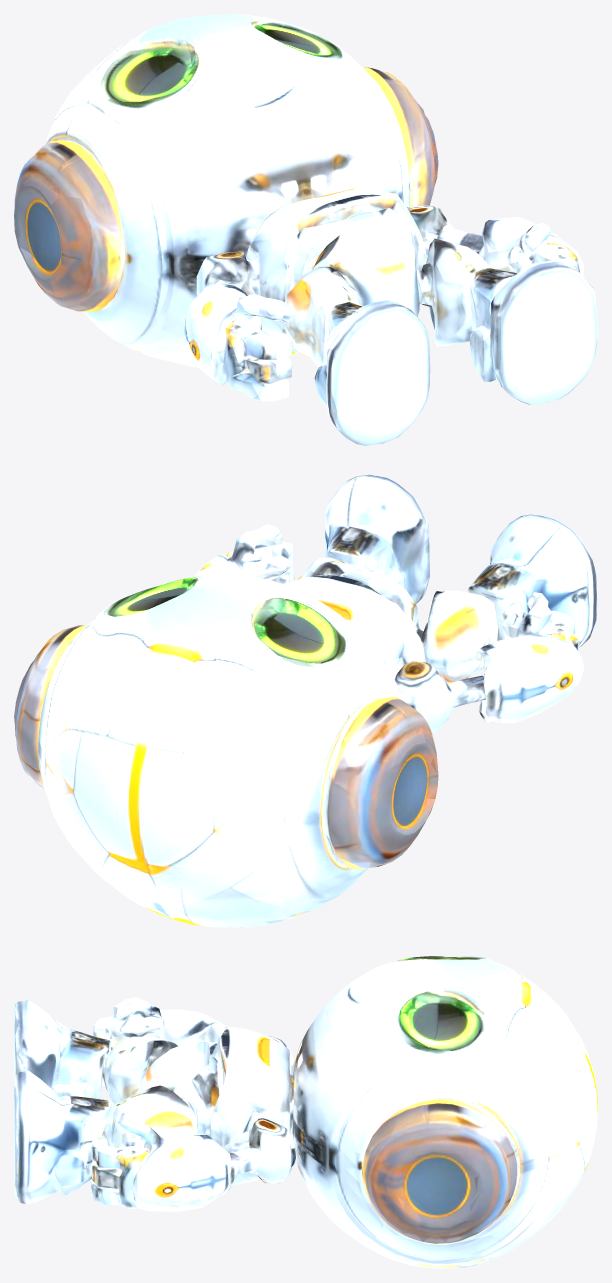
The model's file is core-kitchen-bot.glb.
3 renders of one model, top to bottom at view 1: azimuth 30°, elevation 25°; view 2: azimuth 150°, elevation 25°; view 3: azimuth 270°, elevation 25°, orthographic. The views are drawn at different scales.
Parts seen in each view (by area): view 1: _rootJoint; view 2: _rootJoint; view 3: _rootJoint.
Part boxes in pixels (<box>): _rootJoint: <box>14,14,597,445</box>; _rootJoint: <box>14,474,597,927</box>; _rootJoint: <box>14,956,597,1268</box>.
Bounding box in the file's own units: 72.19 × 58.32 × 109.
1 material, 1 textured.
